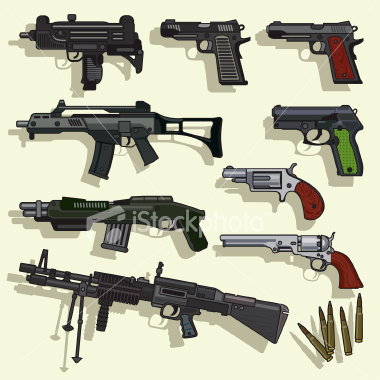pistol: (218, 225, 363, 285), (265, 10, 362, 88), (267, 90, 365, 164), (221, 154, 326, 223), (159, 13, 254, 88)
rifle: (14, 256, 288, 355), (11, 91, 218, 177), (8, 164, 215, 250), (14, 15, 149, 88)
